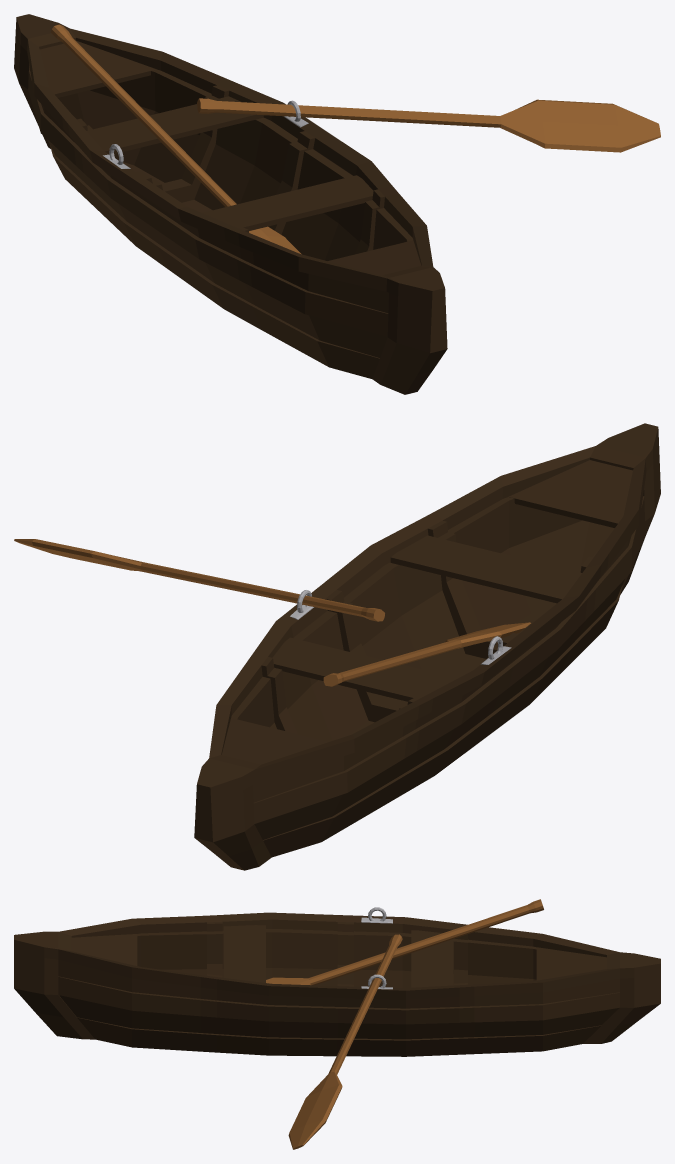
The model's file is boat.fbx.
3 views of the same model, one above another, from view 1: azimuth 30°, elevation 25°; view 2: azimuth 150°, elevation 25°; view 3: azimuth 270°, elevation 25° (orthographic). The views are drawn at different scales.
Parts seen in each view (by area): view 1: Body, Paddle1, Paddle2; view 2: Body, Paddle1, Paddle2; view 3: Body, Paddle1, Paddle2.
Part boxes in pixels (box(x1,y1,x2,y2)): Body: box(14, 14, 447, 394); Paddle1: box(197, 98, 660, 152); Paddle2: box(51, 24, 301, 254); Body: box(194, 423, 660, 870); Paddle1: box(14, 539, 384, 621); Paddle2: box(323, 622, 530, 686); Body: box(14, 907, 660, 1056); Paddle1: box(288, 934, 402, 1149); Paddle2: box(266, 899, 543, 985).
Bounding box in the file's own units: 582 × 174 × 833.
